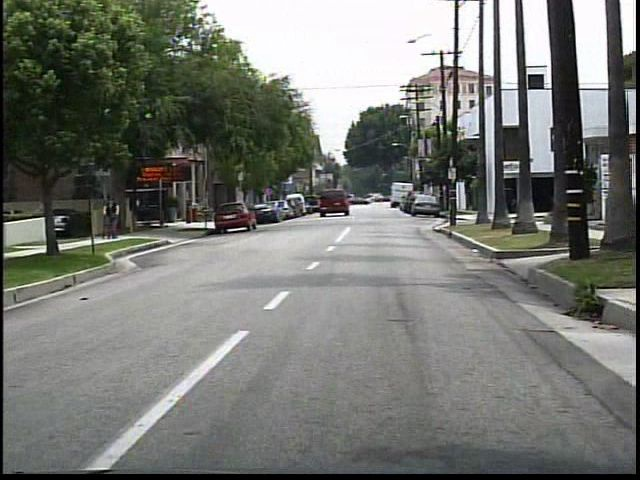person: (97, 192, 123, 242)
